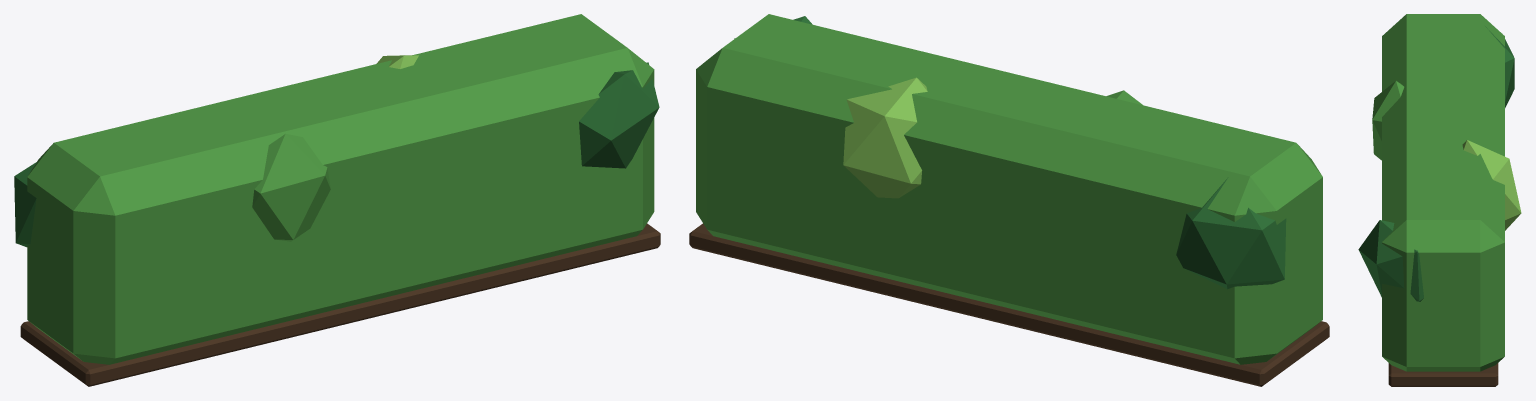
3 views of the same model, side by side, from view 1: azimuth 30°, elevation 25°; view 2: azimuth 150°, elevation 25°; view 3: azimuth 270°, elevation 25° (orthographic). The views are drawn at different scales.
Parts seen in each view (by area): view 1: WK_TownFlora_FormalHedgeStraight_LOD1_Balanced; view 2: WK_TownFlora_FormalHedgeStraight_LOD1_Balanced; view 3: WK_TownFlora_FormalHedgeStraight_LOD1_Balanced.
Part boxes in pixels (bbox=[...]): WK_TownFlora_FormalHedgeStraight_LOD1_Balanced: bbox=[14, 14, 660, 386]; WK_TownFlora_FormalHedgeStraight_LOD1_Balanced: bbox=[689, 14, 1329, 386]; WK_TownFlora_FormalHedgeStraight_LOD1_Balanced: bbox=[1358, 14, 1521, 386].
Size of the model in its own units: 4.01 by 1.34 by 1.19.
